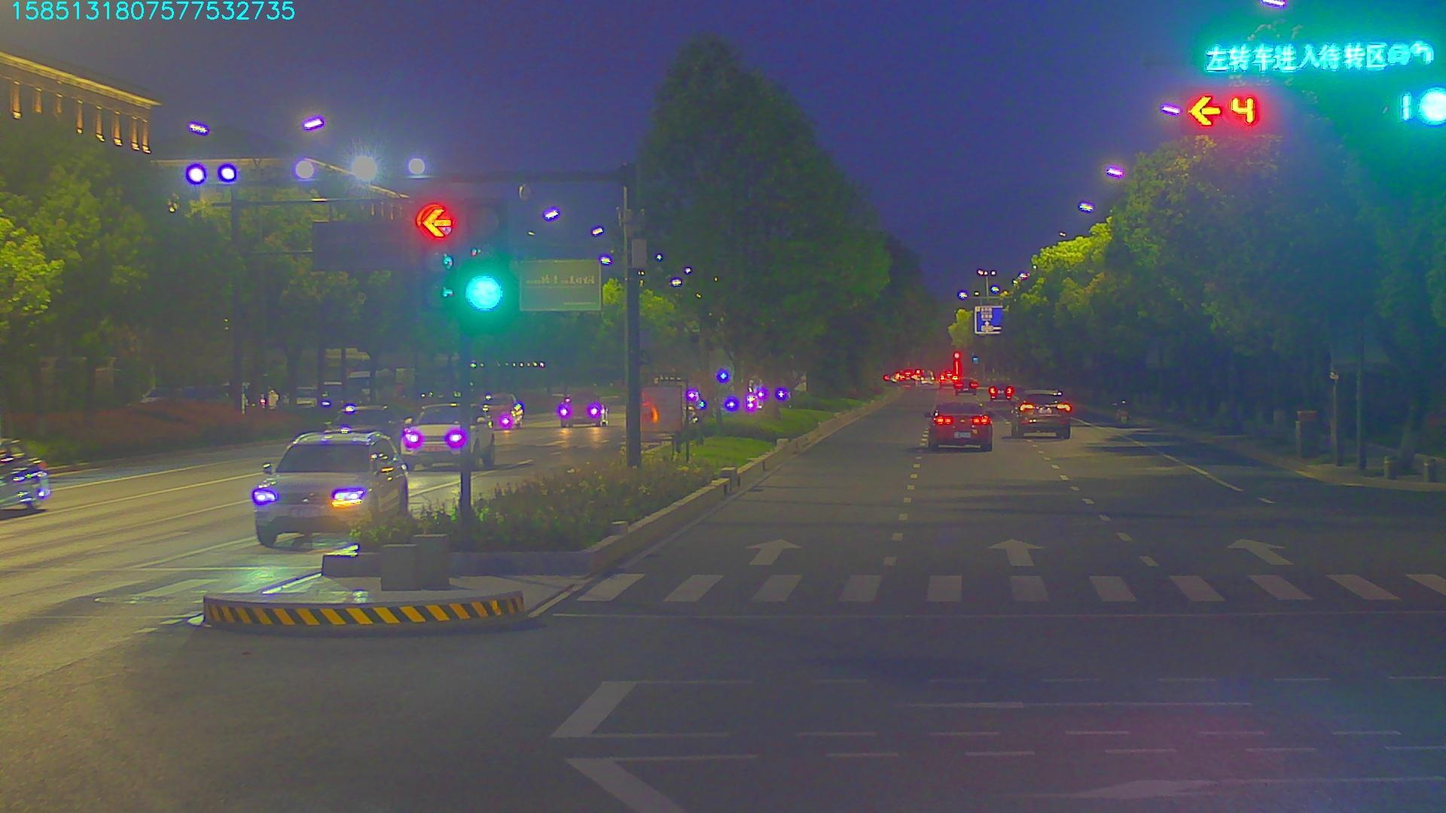green: (1389, 82, 1441, 133)
red: (1183, 82, 1260, 134)
wait_on: (1196, 31, 1435, 69)
